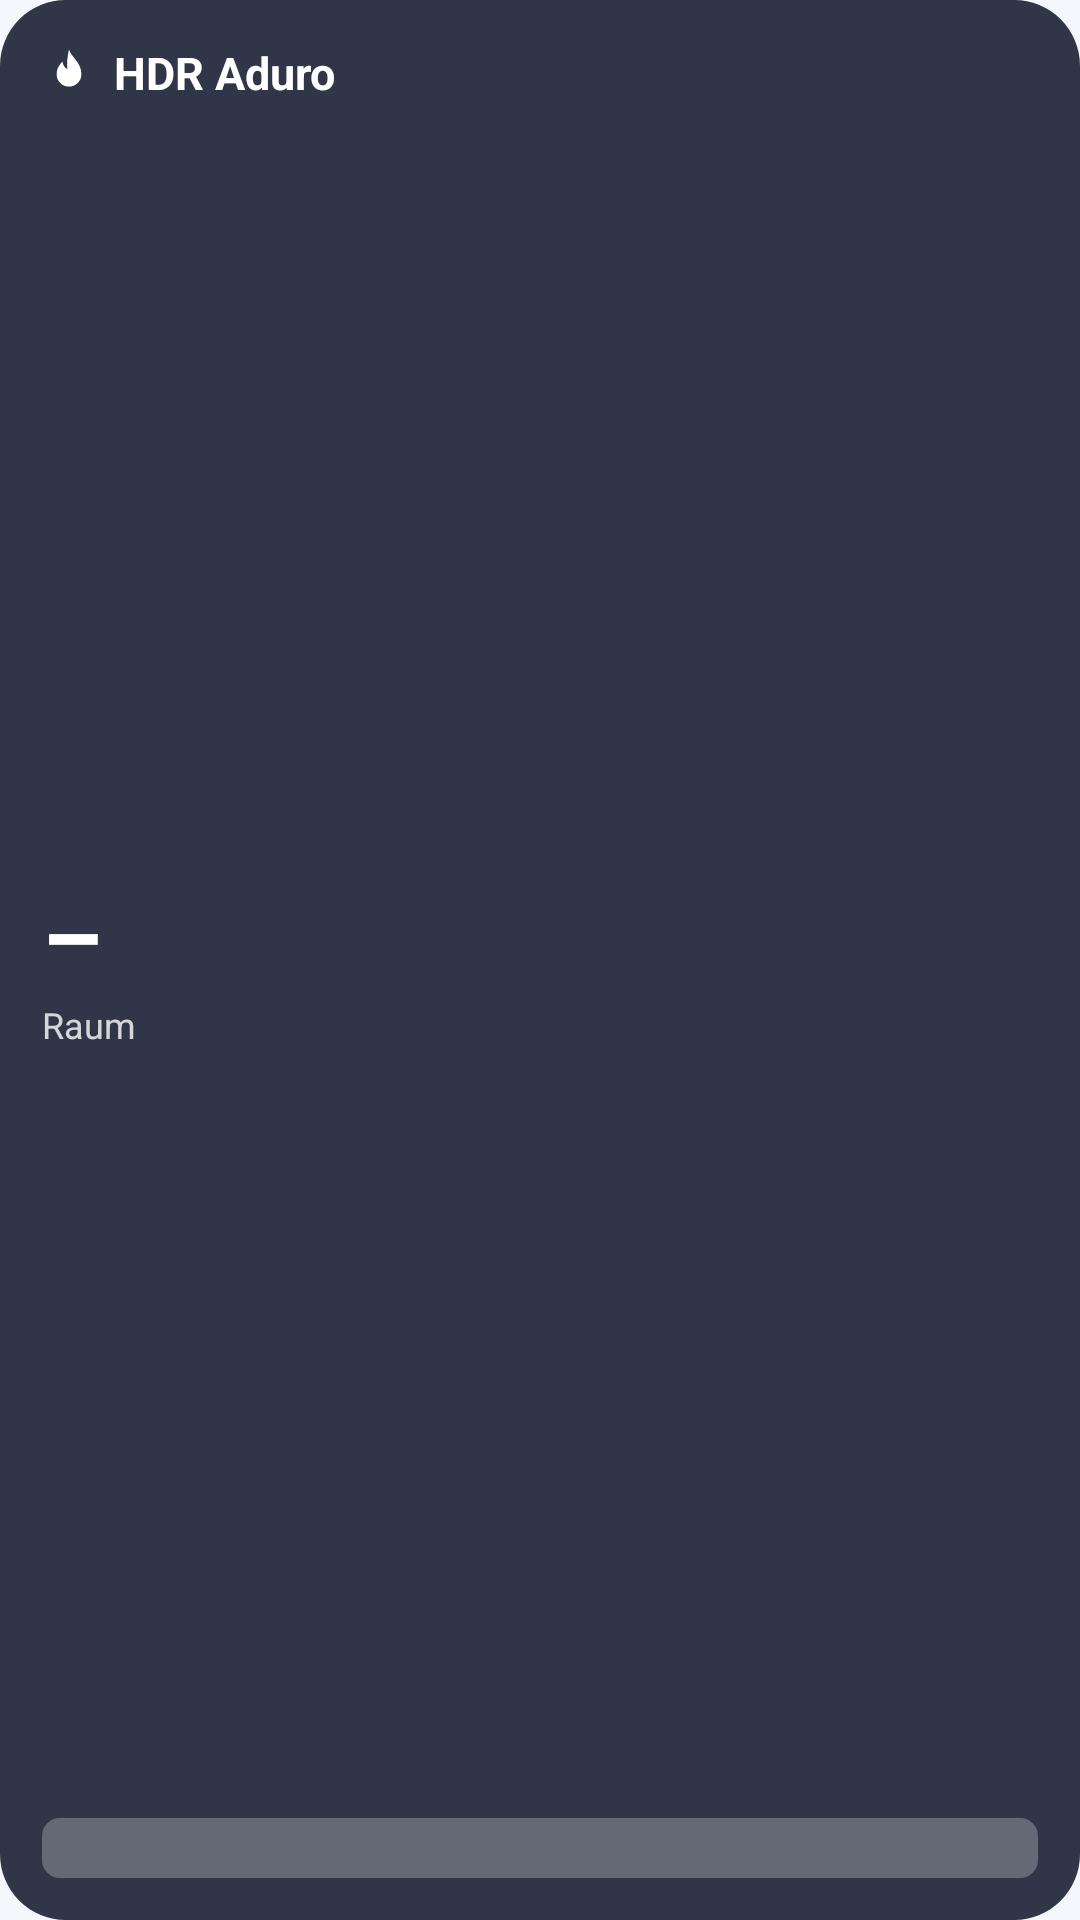

Where icons sit on this 1080×1920 app screen, as box(x1, y1, x2, y2):
flame: box(56, 50, 82, 87)
